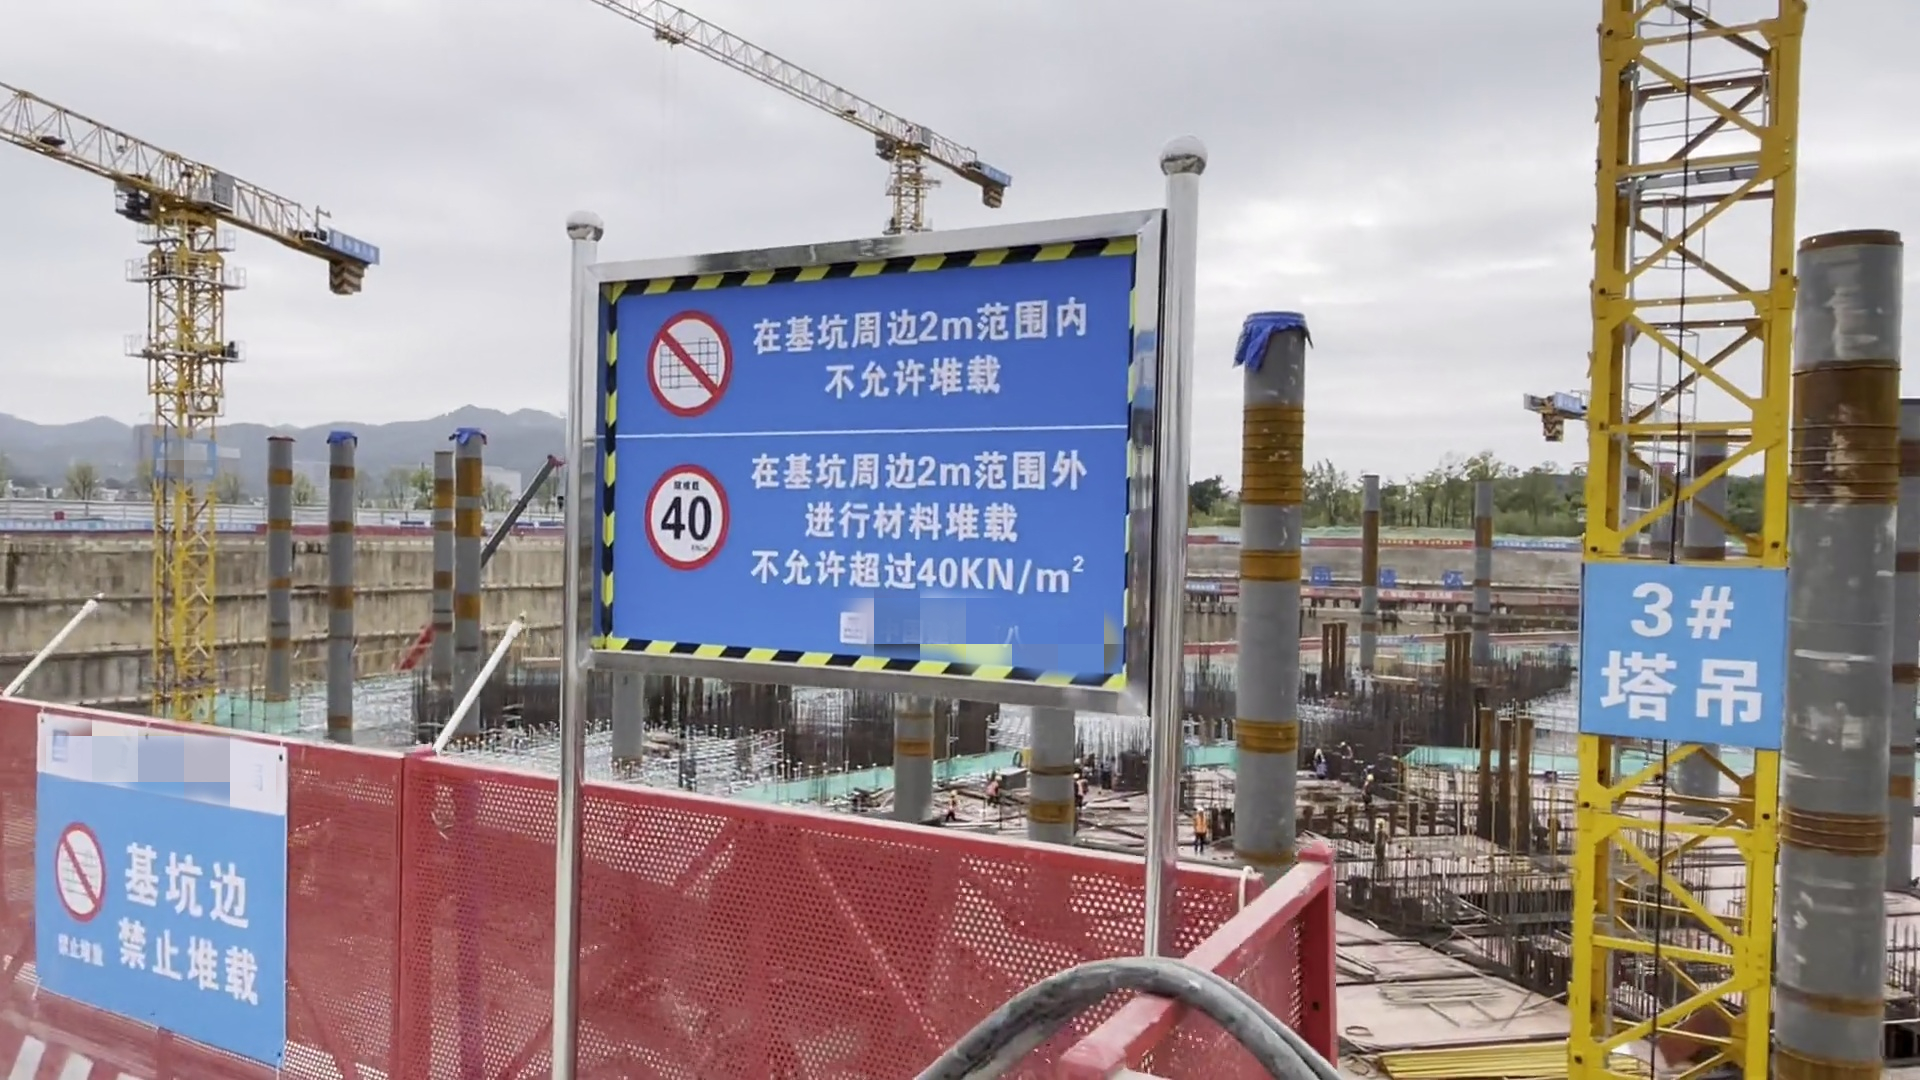fence: (1, 739, 1259, 1064)
helmet: (949, 791, 960, 801), (1364, 774, 1376, 782), (1074, 771, 1083, 780), (994, 774, 1005, 782), (1339, 741, 1347, 747)
person: (1189, 801, 1216, 859), (1072, 763, 1093, 813), (983, 770, 1009, 808), (1359, 772, 1375, 812), (941, 788, 958, 825), (1338, 740, 1360, 766), (1316, 758, 1329, 782)
slogan: (608, 242, 1147, 656), (30, 725, 293, 1053), (1587, 571, 1785, 751), (4, 518, 254, 536)
vest: (1194, 814, 1209, 837), (1360, 783, 1371, 804), (985, 782, 1000, 796), (1075, 782, 1085, 798), (949, 803, 957, 820), (1317, 764, 1326, 775)
